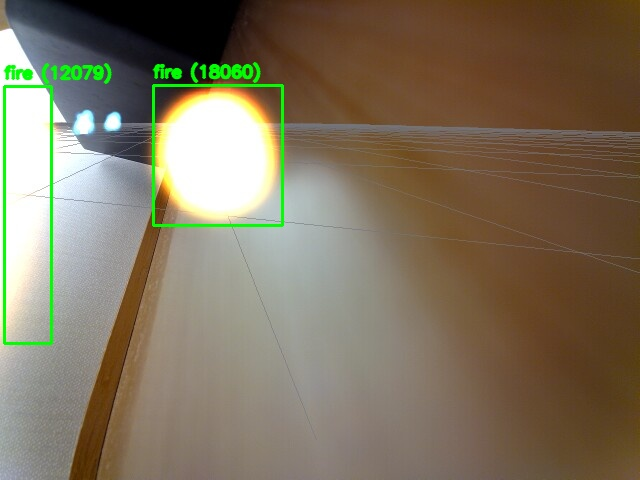fire: (153, 85, 282, 225), (4, 86, 51, 343)
